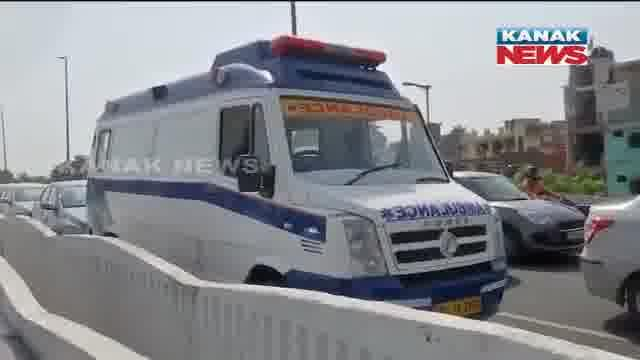AMBULANCE: (85, 28, 500, 331)
